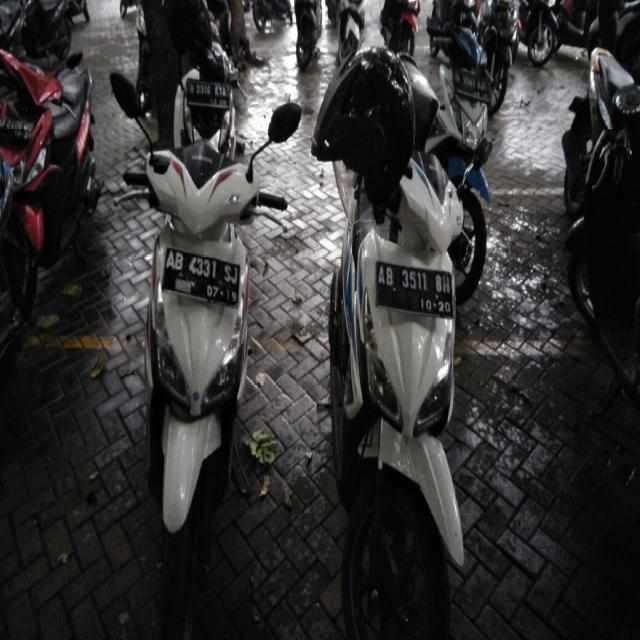plate: (163, 245, 241, 310), (376, 260, 453, 320), (187, 77, 230, 107)
